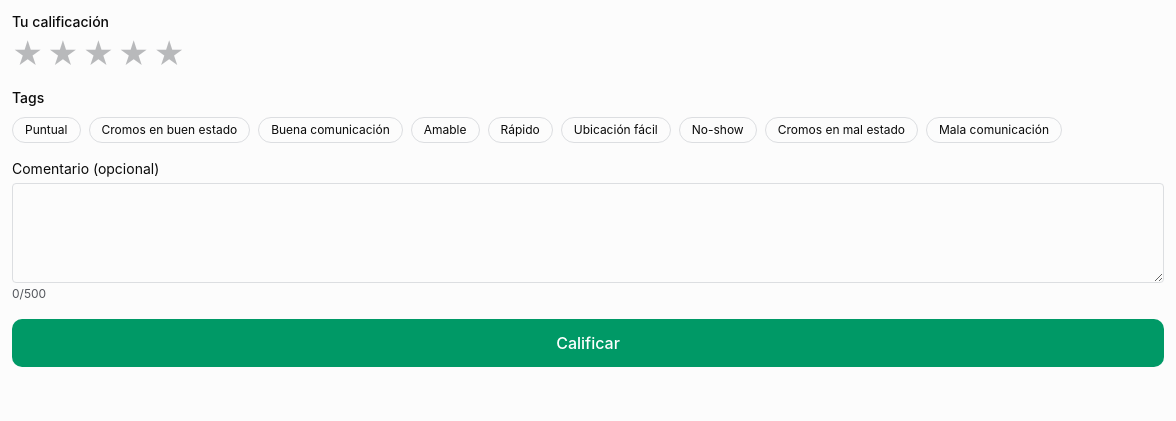
Test: ReviewForm › shows an error when submitting without stars
Click the button with test id "review-submit" at (588, 343), box left=12, top=319, right=1164, bottom=367
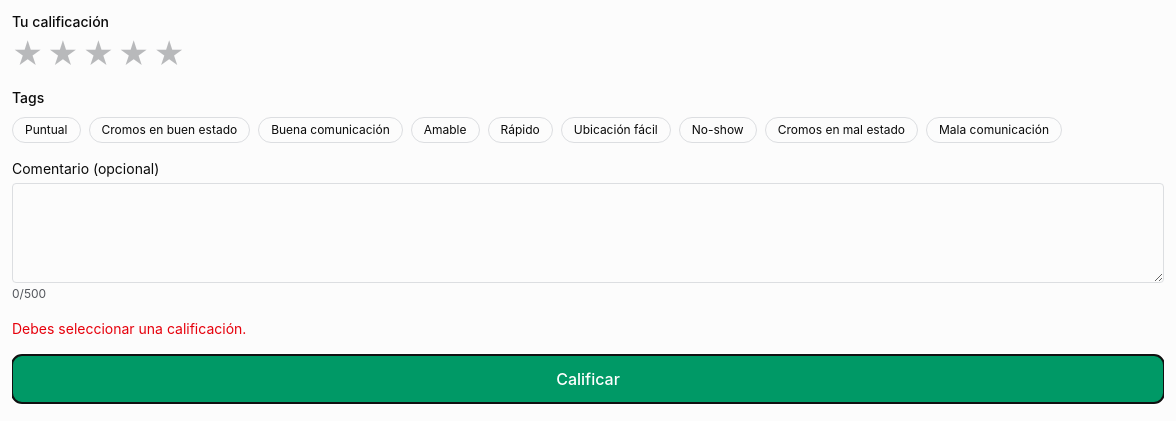
Check: the text with test id "review-error" shows "calificación", box left=12, top=320, right=246, bottom=337
